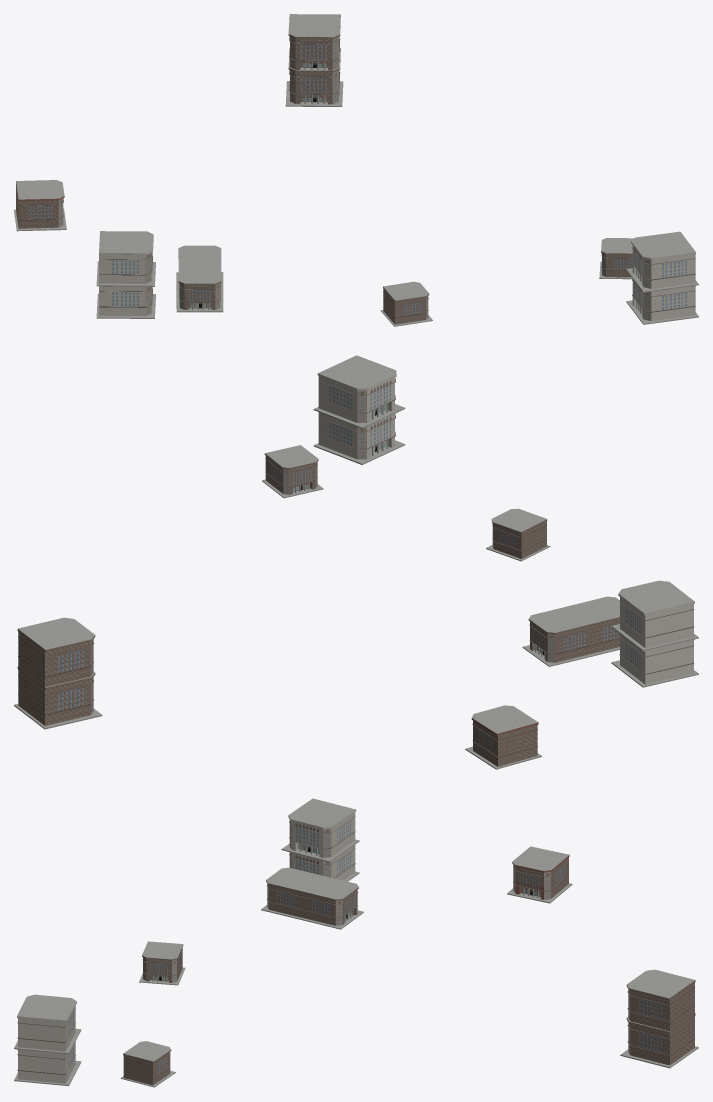
File: Canada_track_building_city_03.dae
3 views of the same model, one above another, from view 1: azimuth 30°, elevation 25°; view 2: azimuth 150°, elevation 25°; view 3: azimuth 270°, elevation 25° (orthographic). The views are drawn at different scales.
Parts seen in each view (by area): view 1: building_city_03_07, building_city_03_02, building_city_03_01, building_city_03_05, building_city_03_03, building_city_03_04, building_city_03_06; view 2: building_city_03_01, building_city_03_07, building_city_03_02, building_city_03_05, building_city_03_03, building_city_03_04, building_city_03_06; view 3: building_city_03_01, building_city_03_07, building_city_03_02, building_city_03_05, building_city_03_03, building_city_03_06, building_city_03_04.
Part boxes in pixels (box(x1,y1,x2,y2)): building_city_03_07: box(626, 231, 698, 324); building_city_03_02: box(96, 231, 155, 318); building_city_03_01: box(285, 14, 343, 106); building_city_03_05: box(176, 245, 223, 312); building_city_03_03: box(14, 180, 66, 231); building_city_03_04: box(380, 281, 432, 326); building_city_03_06: box(599, 238, 633, 279); building_city_03_01: box(14, 617, 102, 729); building_city_03_07: box(313, 355, 405, 464); building_city_03_02: box(611, 580, 698, 687); building_city_03_05: box(522, 596, 619, 666); building_city_03_03: box(465, 705, 541, 769); building_city_03_04: box(486, 508, 550, 561); building_city_03_06: box(262, 445, 323, 498); building_city_03_01: box(620, 969, 698, 1068); building_city_03_07: box(14, 994, 81, 1085); building_city_03_02: box(281, 798, 359, 881); building_city_03_05: box(261, 867, 363, 929); building_city_03_03: box(507, 846, 572, 903); building_city_03_06: box(120, 1041, 175, 1087); building_city_03_04: box(139, 941, 185, 985).
Bounding box in the file's own units: 75.46 × 96.5 × 10.67.
Materials: 5 (5 with a texture image).
